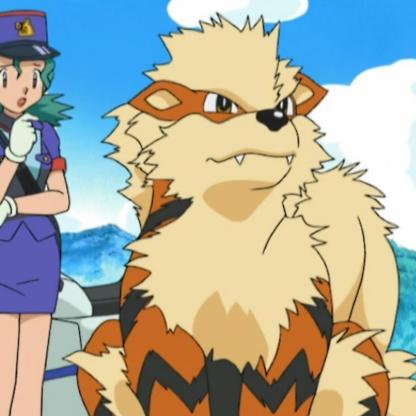Arcanine: (87, 10, 410, 416)
